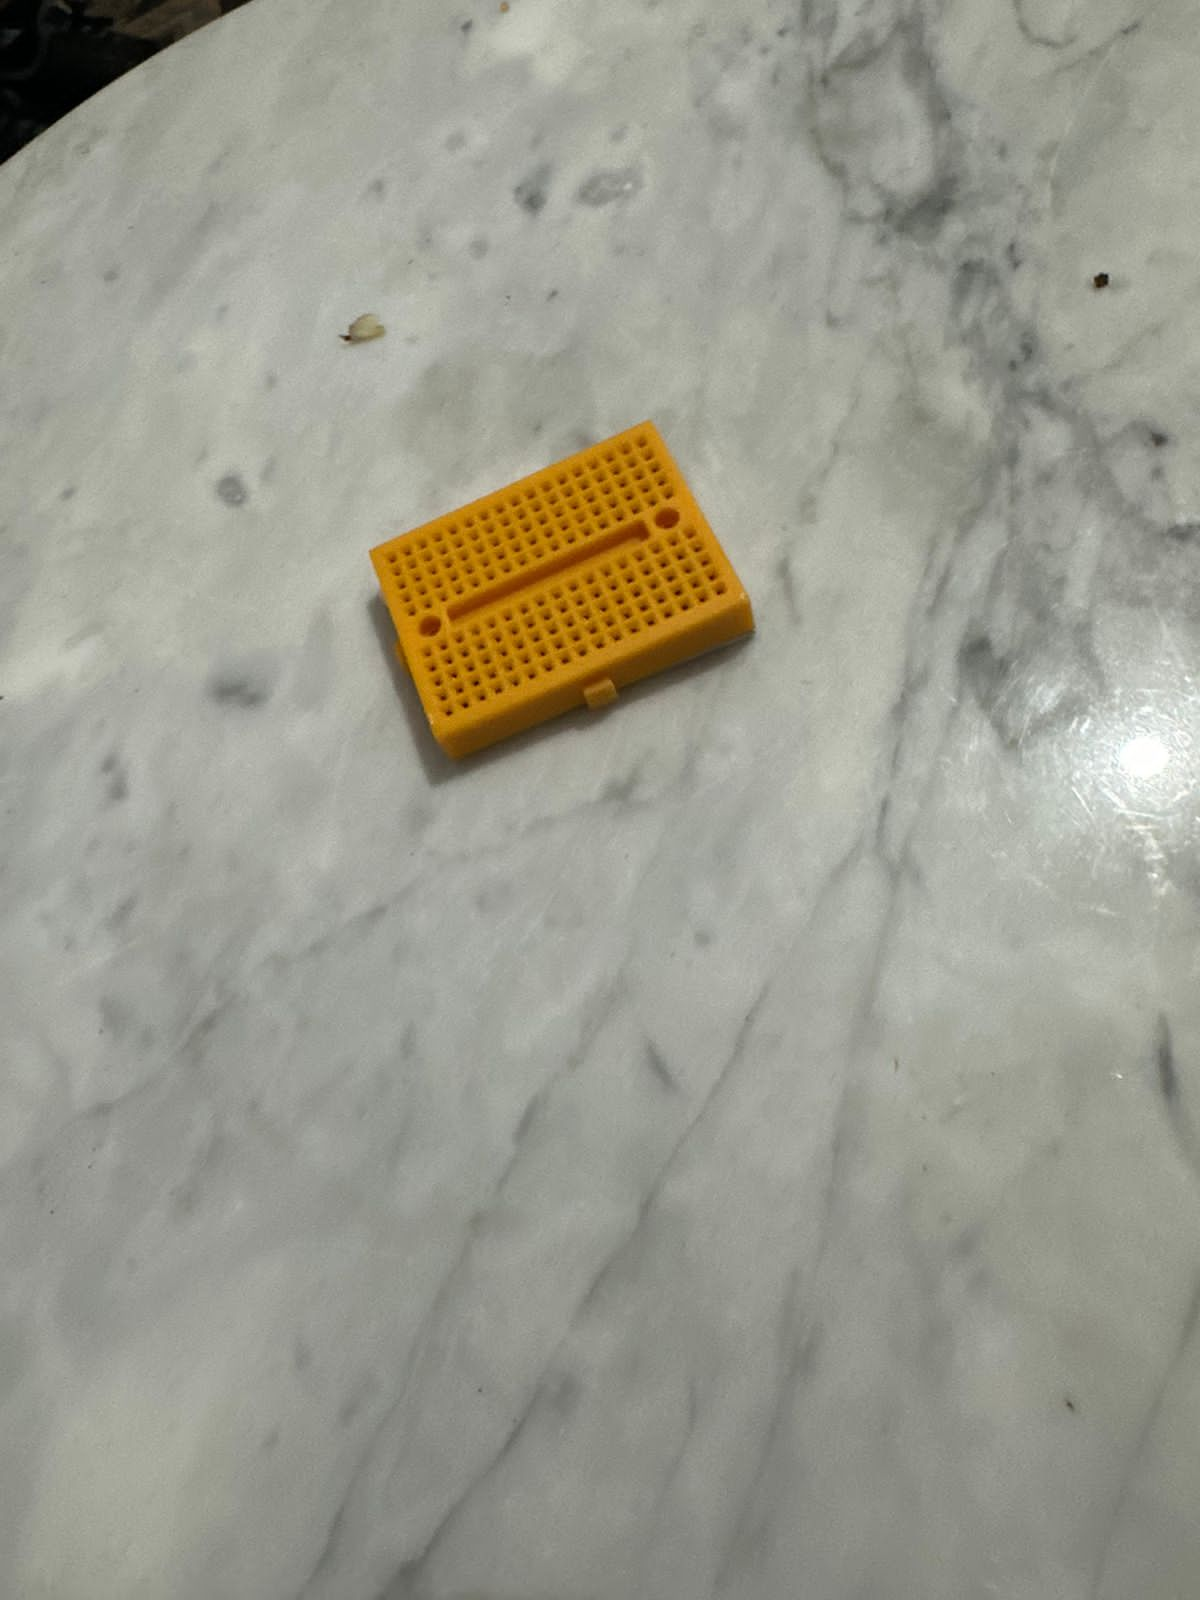breadboard: (366, 422, 760, 769)
